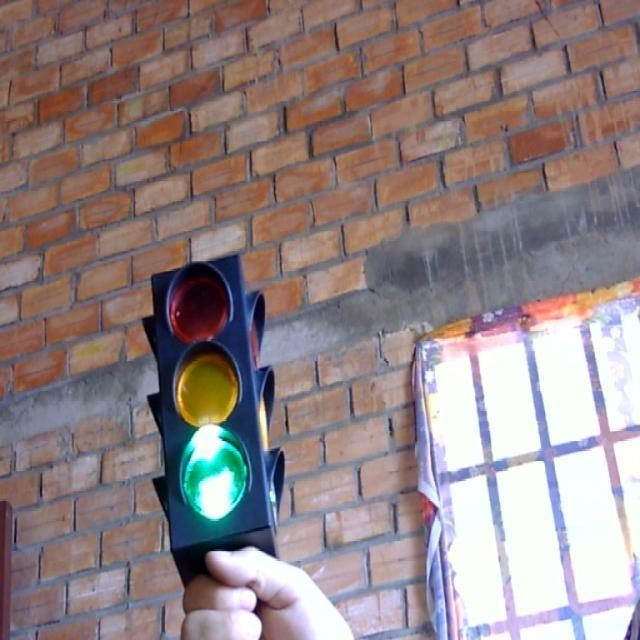green_light: (124, 244, 300, 568)
